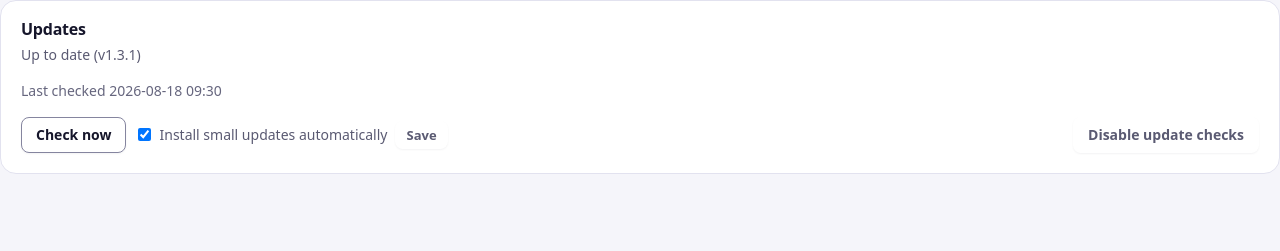
Test: item H: updates-client.tsx passes server actions to useActionState directly › shows the action's own message when nothing changed
The width and height of the screenshot is (1280, 251).
Click the button "Check now" at (74, 135), box [21,117,126,152]
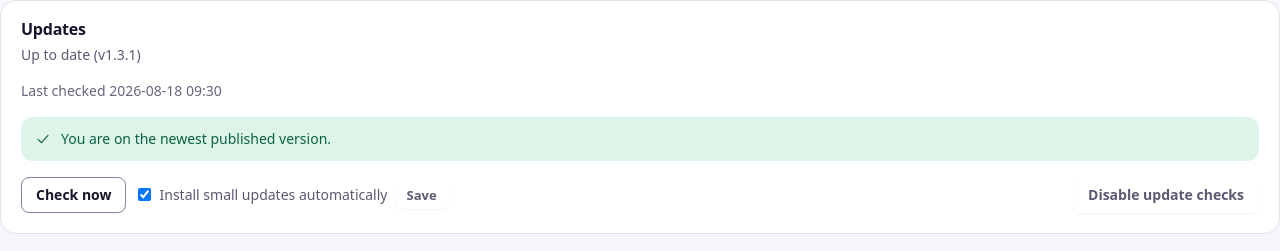
expect the text "You are on the newest published version." is shown: met, box [61,129,331,149]
